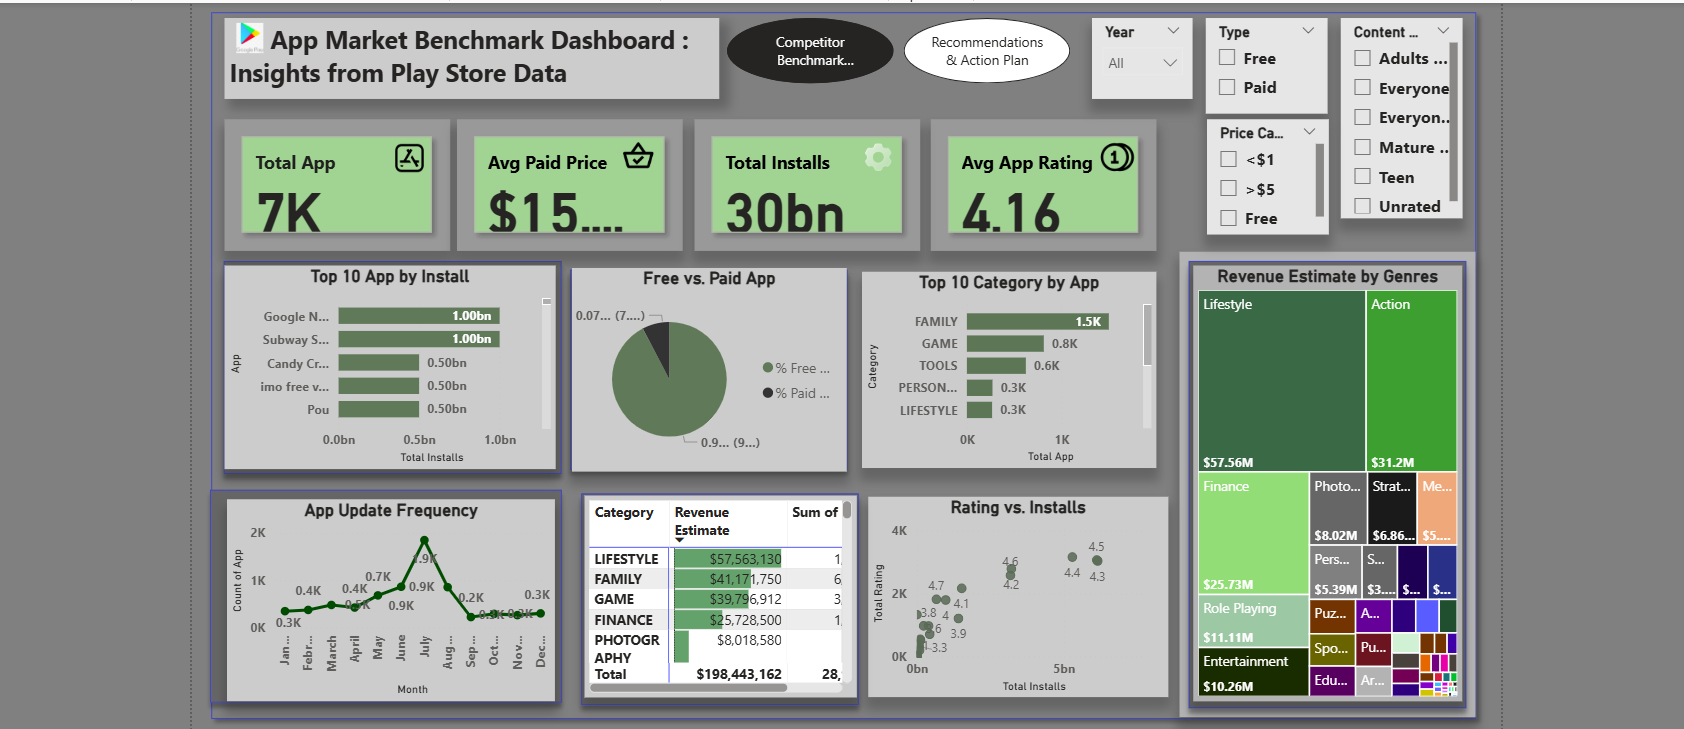

The page's visual inventory and layout, read from the dashboard file:
{"tool":"powerbi","page":{"name":"Competitor Benchmark Dashboard","canvas":[1280,720],"ordinal":0},"visuals":[{"type":"shape","box":[9.6,0,1255.6,709.4],"z":0},{"type":"textbox","box":[31.6,15.1,484.4,79.6],"z":1000},{"type":"shape","box":[22,242.9,348.5,226.4],"z":2000},{"type":"cardVisual","fields":{"Data":["Cleaned_Data.Total App"]},"box":[31.6,113.9,220.9,129],"z":3000},{"type":"cardVisual","fields":{"Data":["Cleaned_Data.Avearge Price of Paid Price"]},"box":[259.3,113.9,220.9,129],"z":4000},{"type":"cardVisual","fields":{"Data":["Cleaned_Data.Average App Rating"]},"box":[723.2,113.9,220.9,129],"z":5000},{"type":"cardVisual","fields":{"Data":["Cleaned_Data.Total Installs"]},"box":[491.3,113.9,220.9,129],"z":6000},{"type":"shape","box":[966,242.9,289.5,455.6],"z":7000},{"type":"shape","box":[371.9,470.7,289.5,225],"z":8000},{"type":"shape","box":[360.9,252.5,289.5,214.1],"z":9000},{"type":"shape","box":[8.2,466.6,362.3,226.4],"z":10000},{"type":"barChart","title":"Top 10 App by Install","fields":{"Y":["Cleaned_Data.Total Installs"],"Category":["Cleaned_Data.App"]},"box":[31.6,256.6,323.8,199],"z":11000},{"type":"treemap","fields":{"Values":["Cleaned_Data.Revenue Estimate"],"Group":["Cleaned_Data.Genres"]},"box":[979.8,256.6,263.5,426.8],"z":12000},{"type":"scatterChart","title":"Rating vs. Installs","fields":{"X":["Cleaned_Data.Total Installs"],"Y":["Cleaned_Data.Total Rating"],"Category":["Cleaned_Data.Rating","Cleaned_Data.Installs"]},"box":[661.4,483,293.7,196.2],"z":13000},{"type":"pieChart","title":"Free vs. Paid App","fields":{"Y":["Cleaned_Data.% Free Apps","Cleaned_Data.% Paid App"]},"box":[371.9,259.3,269,199],"z":14000},{"type":"lineChart","title":"App Update Frequency","fields":{"Category":["Cleaned_Data.Last Updated.Variation.Date Hierarchy.Year","Cleaned_Data.Last Updated.Variation.Date Hierarchy.Month"],"Y":["CountNonNull(Cleaned_Data.App)"]},"box":[34.3,485.8,321.1,197.6],"z":15000},{"type":"pivotTable","fields":{"Rows":["Cleaned_Data.Category"],"Values":["Cleaned_Data.Revenue Estimate","Sum(Cleaned_Data.Rating)"]},"box":[384.2,481.6,266.2,197.6],"z":16000},{"type":"slicer","fields":{"Values":["Cleaned_Data.Type"]},"box":[992.1,15.1,119.4,93.3],"z":17000},{"type":"slicer","fields":{"Values":["Cleaned_Data.Content Rating"]},"box":[1123.8,15.1,119.4,196.2],"z":18000},{"type":"slicer","fields":{"Values":["Cleaned_Data.Last Updated.Variation.Date Hierarchy.Year"]},"box":[881,15.1,98.8,79.6],"z":19000},{"type":"pageNavigator","box":[522.8,15.1,337.6,64.5],"z":20000},{"type":"image","box":[9.6,15.1,93.3,39.8],"z":21000},{"type":"barChart","title":"Top 10 Category by App","fields":{"Category":["Cleaned_Data.Category"],"Y":["Cleaned_Data.Total App"]},"box":[655.9,263.5,288.2,192.1],"z":22000},{"type":"slicer","fields":{"Values":["Cleaned_Data.Price Category"]},"box":[993.5,113.9,119.4,112.5],"z":23000},{"type":"image","box":[189.5,3.7,46.5,295.9],"z":24000},{"type":"image","box":[415.8,0,41.6,299.6],"z":25000},{"type":"image","box":[650.5,1.2,41.6,299.6],"z":26000},{"type":"image","box":[880.4,1.2,50.1,299.6],"z":27000}]}

Visuals, with their boxes on the page's 1280x720 design canvas (x1, y1, x2, y2). These are canvas units, not pixel positions in the 1684x729 screenshot, which may show the page scaled, cropped or inside an application window:
shape: <box>10,0,1265,709</box>
textbox: <box>32,15,516,95</box>
shape: <box>22,243,370,469</box>
cardVisual - Cleaned_Data.Total App: <box>32,114,252,243</box>
cardVisual - Cleaned_Data.Avearge Price of Paid Price: <box>259,114,480,243</box>
cardVisual - Cleaned_Data.Average App Rating: <box>723,114,944,243</box>
cardVisual - Cleaned_Data.Total Installs: <box>491,114,712,243</box>
shape: <box>966,243,1256,698</box>
shape: <box>372,471,661,696</box>
shape: <box>361,252,650,467</box>
shape: <box>8,467,370,693</box>
"Top 10 App by Install" barChart: <box>32,257,355,456</box>
treemap - Cleaned_Data.Revenue Estimate x Cleaned_Data.Genres: <box>980,257,1243,683</box>
"Rating vs. Installs" scatterChart: <box>661,483,955,679</box>
"Free vs. Paid App" pieChart: <box>372,259,641,458</box>
"App Update Frequency" lineChart: <box>34,486,355,683</box>
pivotTable - Cleaned_Data.Category x Cleaned_Data.Revenue Estimate: <box>384,482,650,679</box>
slicer - Cleaned_Data.Type: <box>992,15,1112,108</box>
slicer - Cleaned_Data.Content Rating: <box>1124,15,1243,211</box>
slicer - Cleaned_Data.Last Updated.Variation.Date Hierarchy.Year: <box>881,15,980,95</box>
pageNavigator: <box>523,15,860,80</box>
image: <box>10,15,103,55</box>
"Top 10 Category by App" barChart: <box>656,264,944,456</box>
slicer - Cleaned_Data.Price Category: <box>994,114,1113,226</box>
image: <box>190,4,236,300</box>
image: <box>416,0,457,300</box>
image: <box>650,1,692,301</box>
image: <box>880,1,930,301</box>
